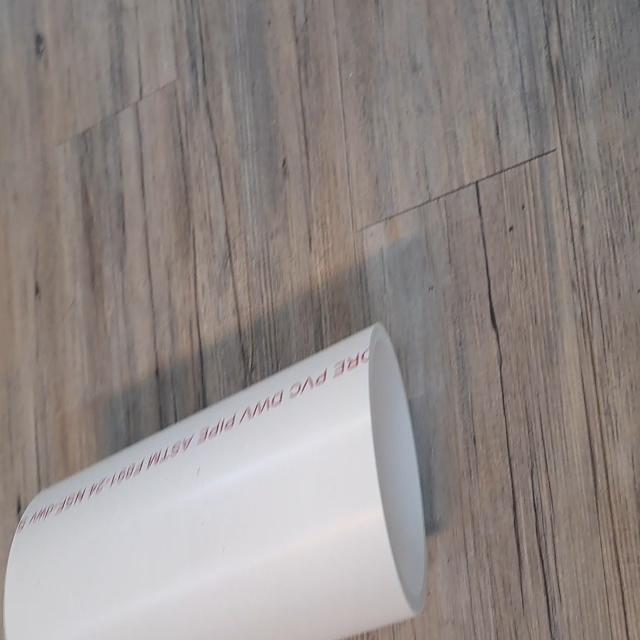CORAL: (0, 313, 431, 640)
